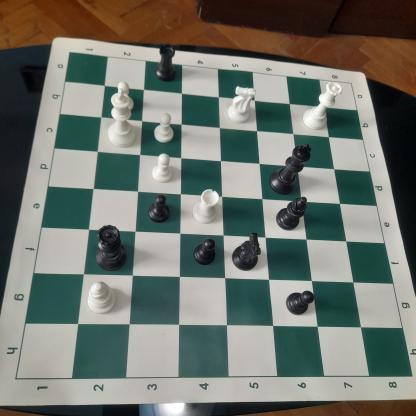black-bishop: (275, 191, 308, 235)
black-king: (268, 142, 314, 198)
black-knight: (230, 231, 264, 274)
black-pawn: (284, 288, 317, 318), (147, 193, 172, 224), (192, 236, 217, 267)
black-queen: (91, 224, 131, 272)
black-rook: (154, 42, 180, 82)
white-bishop: (85, 279, 120, 316)
white-king: (105, 89, 137, 149)
white-knight: (225, 84, 259, 126)
white-pawn: (151, 153, 175, 185), (114, 78, 135, 111), (154, 111, 175, 144)
white-queen: (300, 80, 343, 132)
white-rook: (188, 187, 222, 226)
